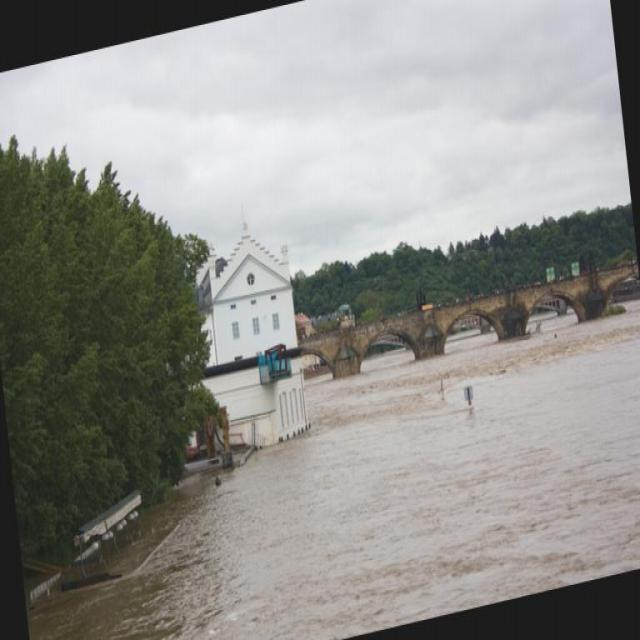flood: (8, 283, 639, 639)
